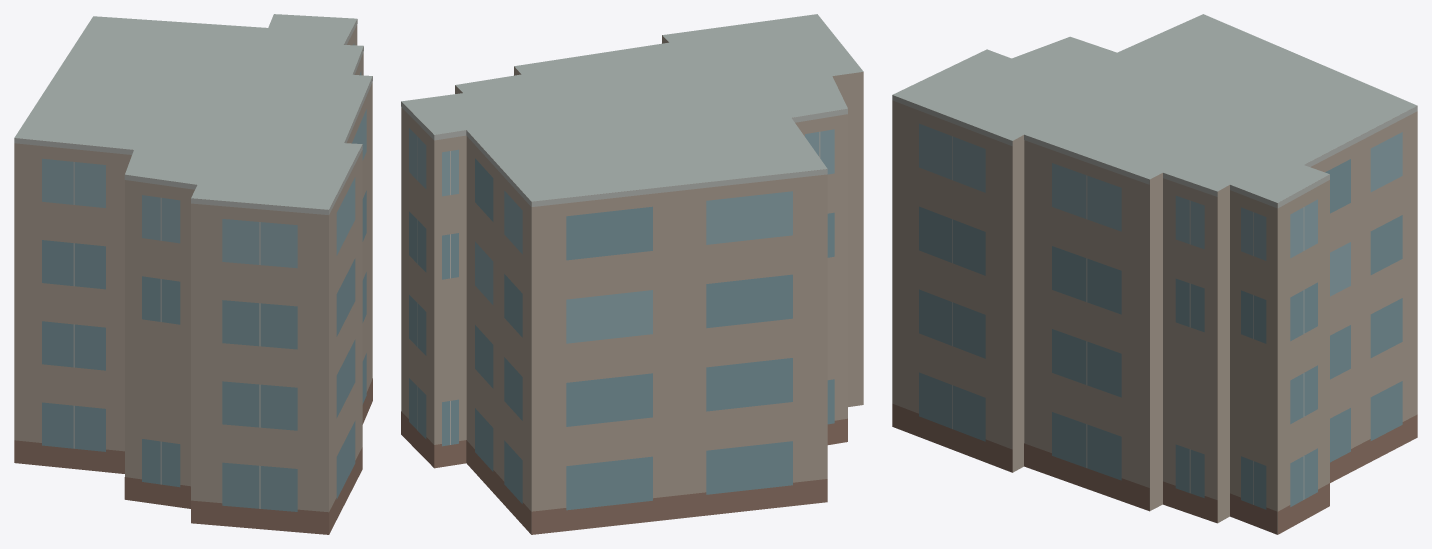
The model's file is survey-upis-32658073.glb.
The picture shows the model from 3 angles, left to right: view 1: azimuth 30°, elevation 25°; view 2: azimuth 150°, elevation 25°; view 3: azimuth 270°, elevation 25°; orthographic projection. The views are drawn at different scales.
Parts seen in each view (by area): view 1: survey-upis-32658073.tmp; view 2: survey-upis-32658073.tmp; view 3: survey-upis-32658073.tmp.
Boxes of the visible parts, <box> form: survey-upis-32658073.tmp: <box>14,14,372,534</box>; survey-upis-32658073.tmp: <box>401,14,863,534</box>; survey-upis-32658073.tmp: <box>892,14,1417,534</box>.
Bounding box in the file's own units: 18.22 × 14.9 × 21.39.
